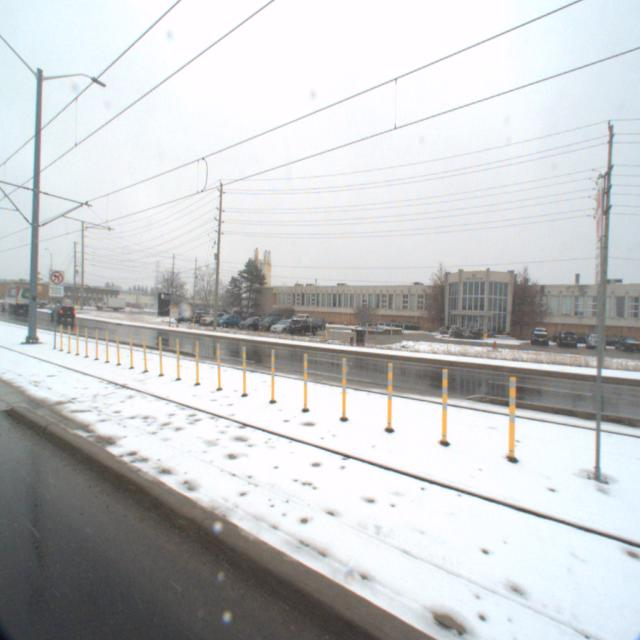Car: (266, 321, 298, 338), (283, 322, 315, 339), (208, 316, 240, 332), (233, 319, 266, 334), (526, 328, 548, 348)
Truck: (90, 300, 124, 314)
